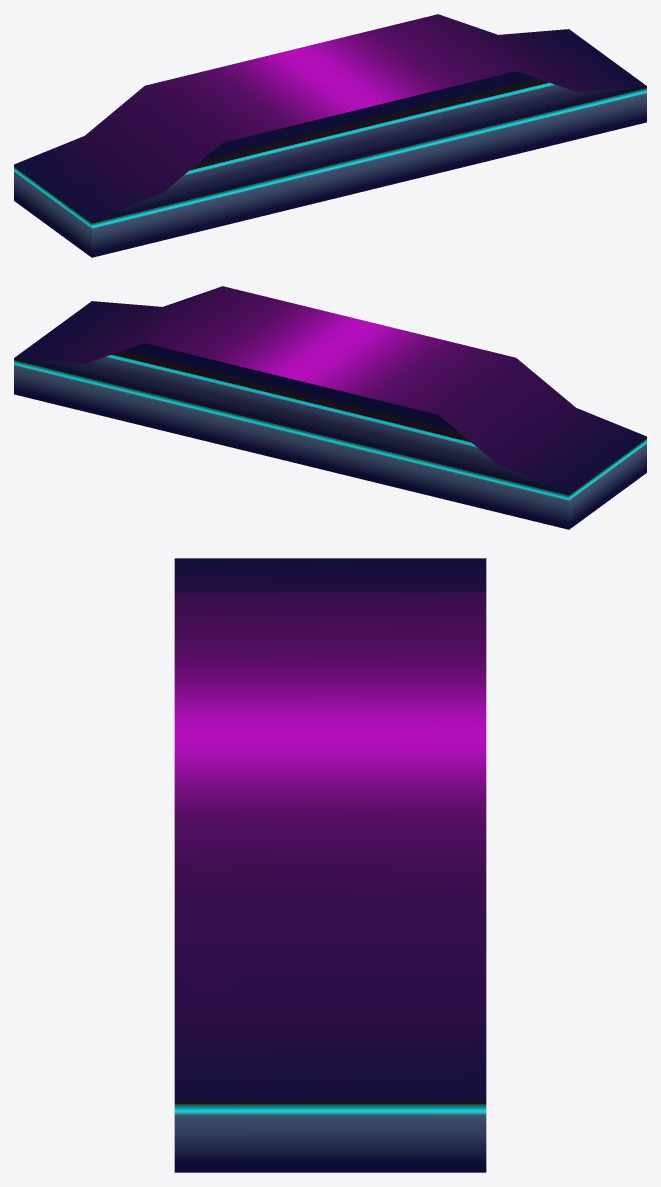
The model's file is urban_stepslope.gltf.
The picture shows the model from 3 angles, top to bottom: view 1: azimuth 30°, elevation 25°; view 2: azimuth 150°, elevation 25°; view 3: azimuth 270°, elevation 25°; orthographic projection. The views are drawn at different scales.
Parts seen in each view (by area): view 1: urban_stepslope_glb; view 2: urban_stepslope_glb; view 3: urban_stepslope_glb.
Boxes of the visible parts, x1,y1,x2,y2 form: urban_stepslope_glb: (14,14,646,257); urban_stepslope_glb: (14,286,646,529); urban_stepslope_glb: (174,558,486,1172).
Size of what is drawn, in the model's own units: 4 by 0.5727 by 0.9725.
Materials: 1 (1 with a texture image).
